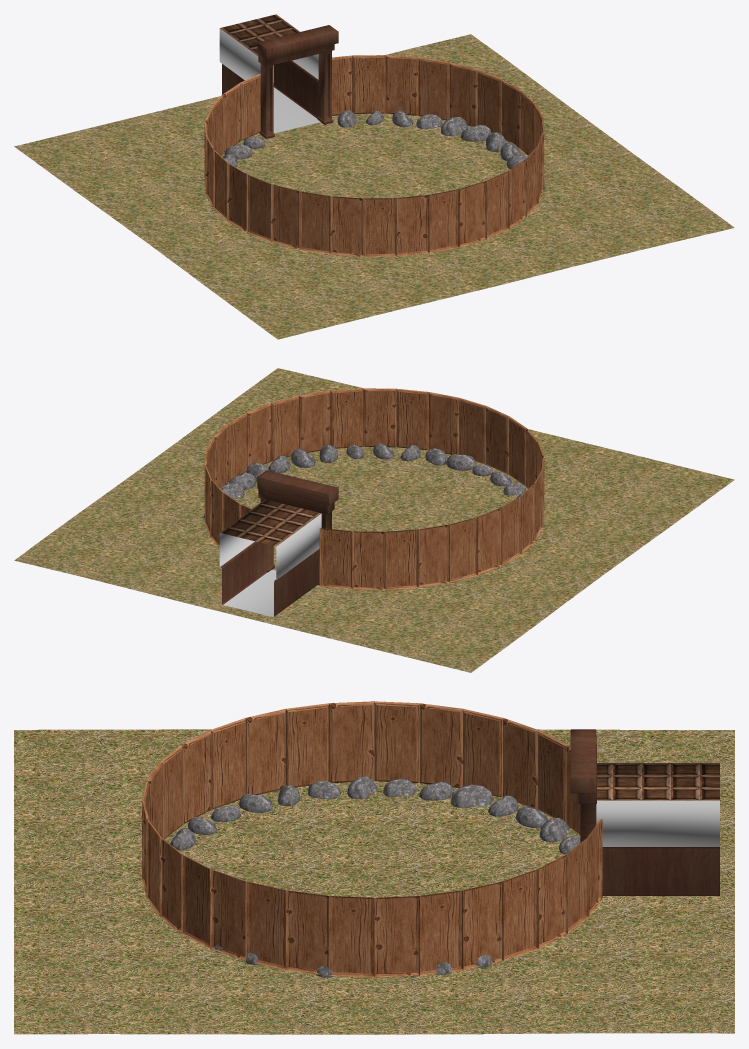
Rendered from GreenRoom.fbx.
3 renders of one model, top to bottom at view 1: azimuth 30°, elevation 25°; view 2: azimuth 150°, elevation 25°; view 3: azimuth 270°, elevation 25°, orthographic. The views are drawn at different scales.
Visible parts, largest first — view 1: Plane, Fence, Corridor, Doorway, RockRing; view 2: Plane, Fence, Corridor, RockRing, Doorway; view 3: Plane, Fence, Corridor, RockRing, Doorway.
Boxes of the visible parts, left/top/right/bottom form: Plane: left=14, top=34, right=734, bottom=339; Fence: left=204, top=55, right=544, bottom=256; Corridor: left=219, top=14, right=320, bottom=133; Doorway: left=257, top=25, right=338, bottom=138; RockRing: left=223, top=110, right=544, bottom=190; Plane: left=14, top=368, right=734, bottom=672; Fence: left=204, top=388, right=544, bottom=590; Corridor: left=219, top=499, right=321, bottom=616; RockRing: left=203, top=443, right=525, bottom=578; Doorway: left=257, top=470, right=338, bottom=585; Plane: left=14, top=729, right=734, bottom=1034; Fence: left=142, top=701, right=602, bottom=977; Corridor: left=596, top=763, right=719, bottom=895; RockRing: left=170, top=776, right=580, bottom=977; Doorway: left=570, top=729, right=597, bottom=900.
Size of the model in its own units: 16.38 by 3.44 by 16.38.
